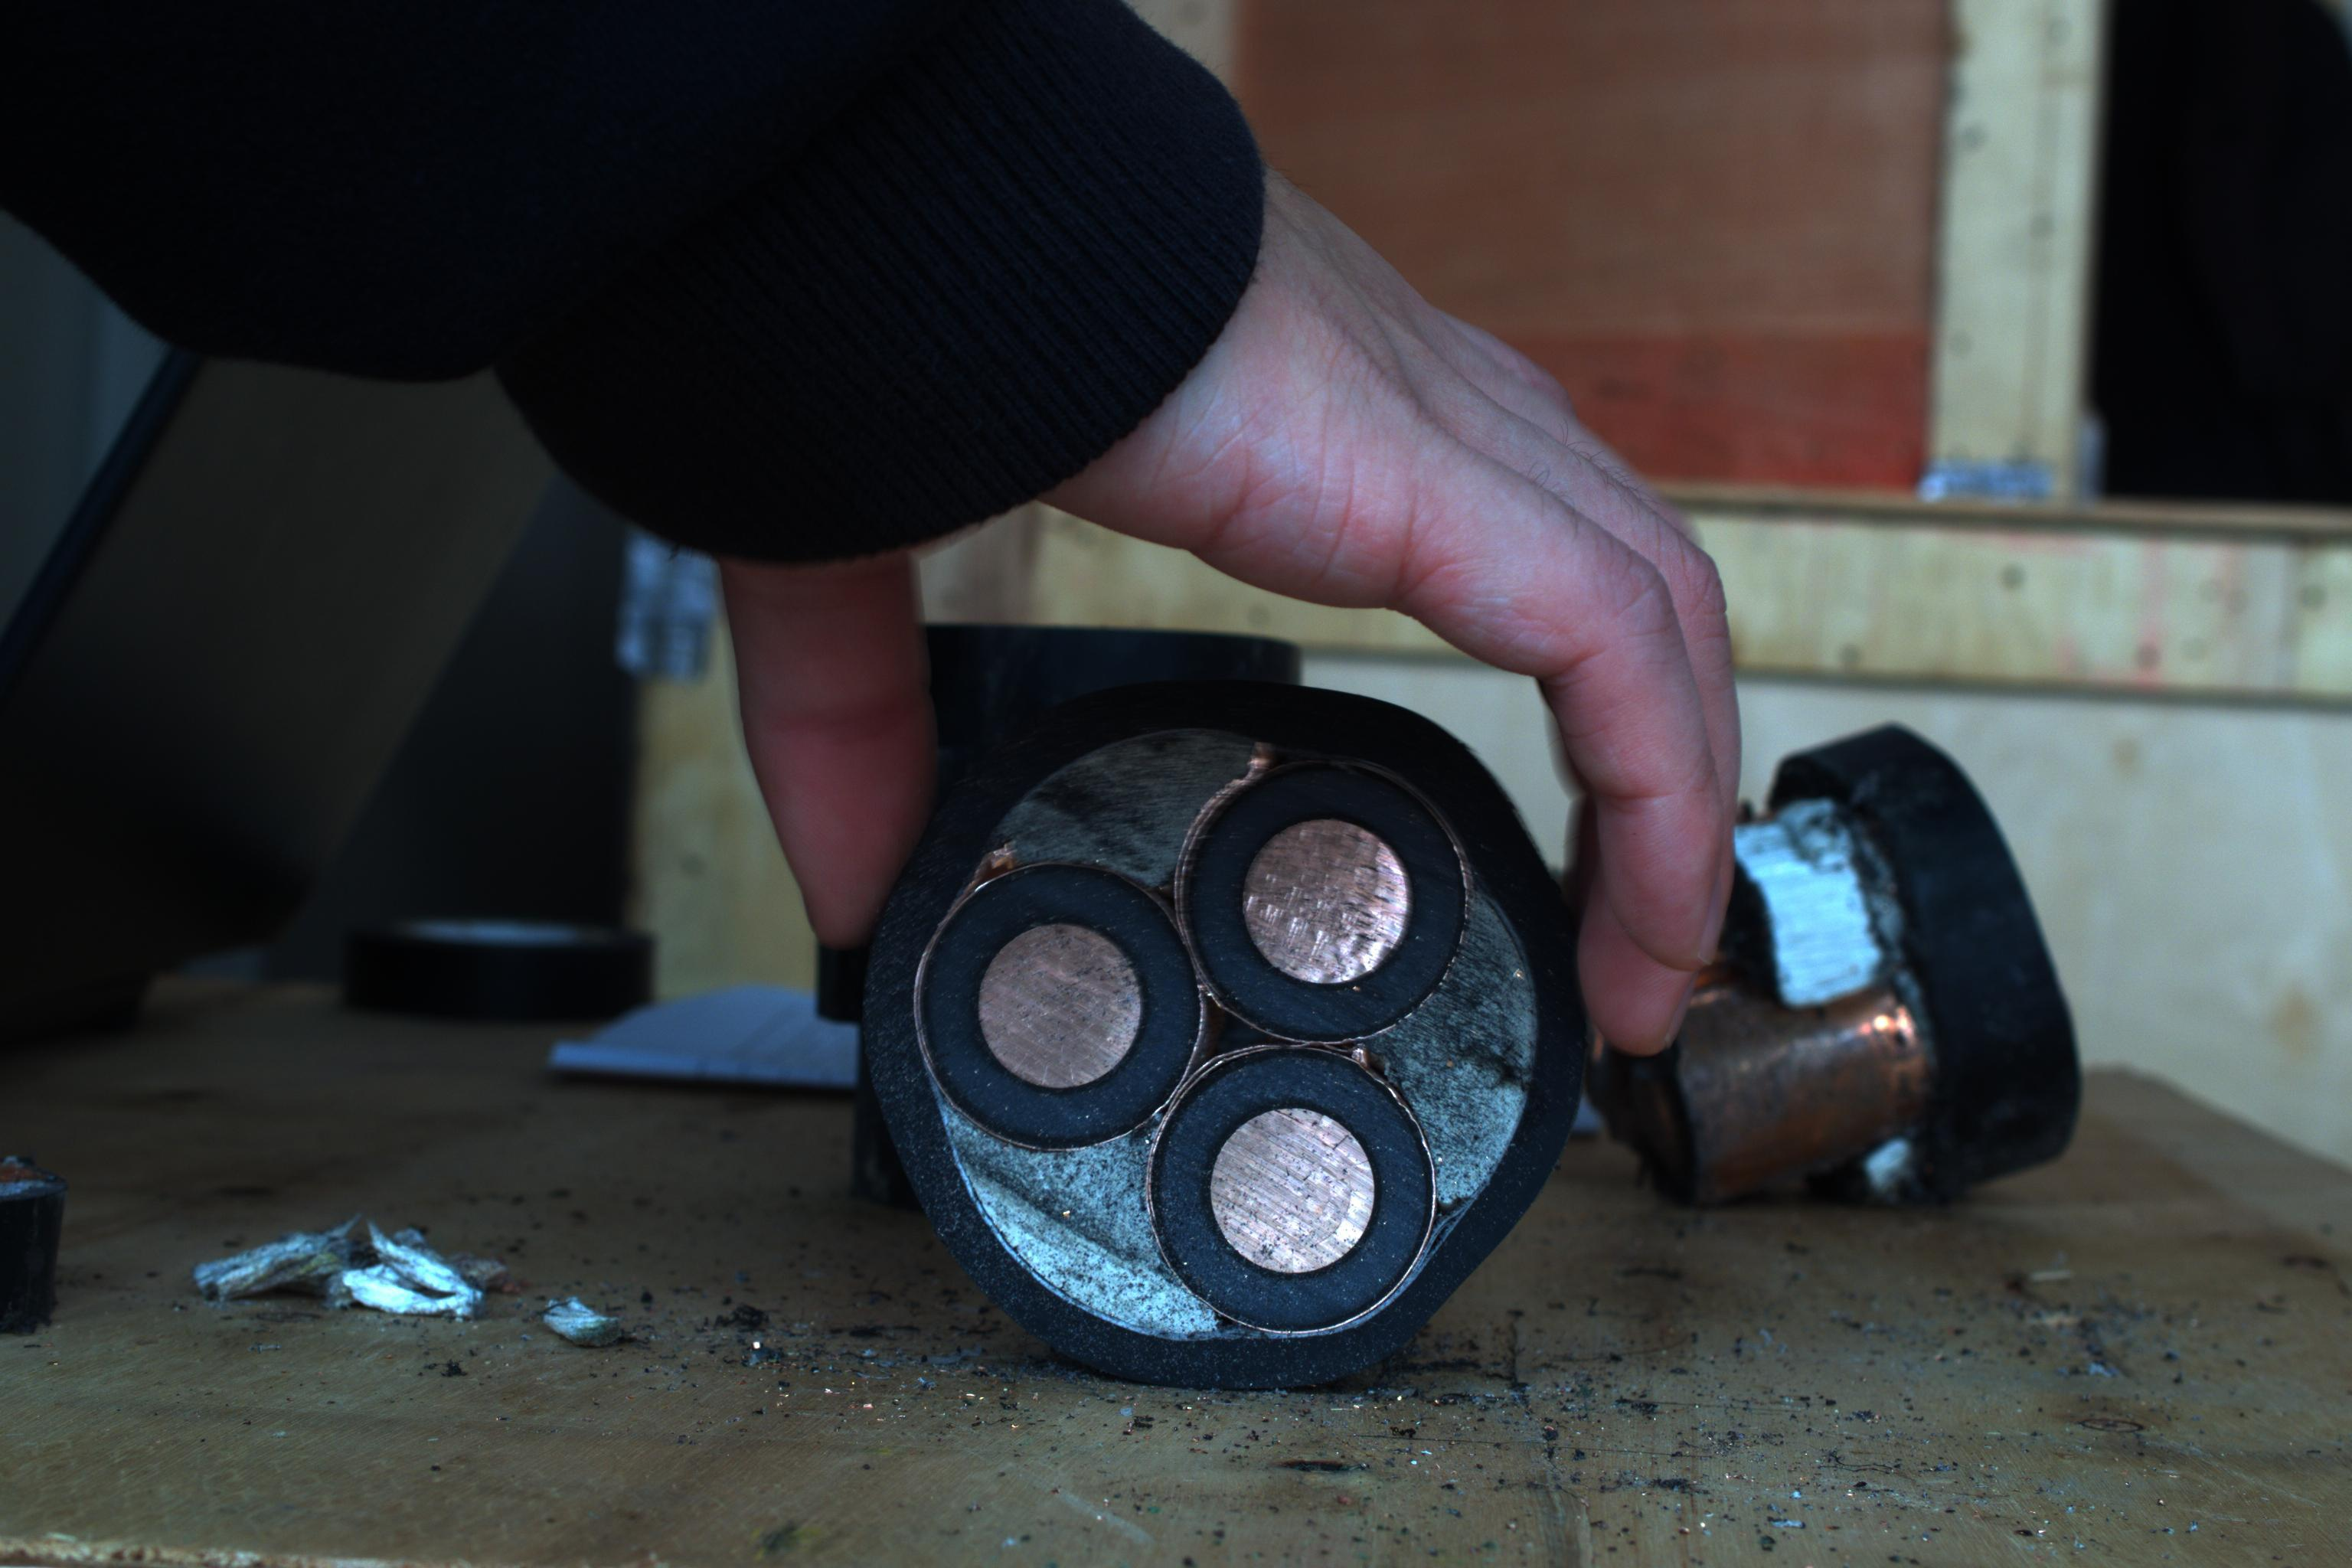ZA_YJV_8.7_10kV_3x240: (847, 700, 1596, 1375)
